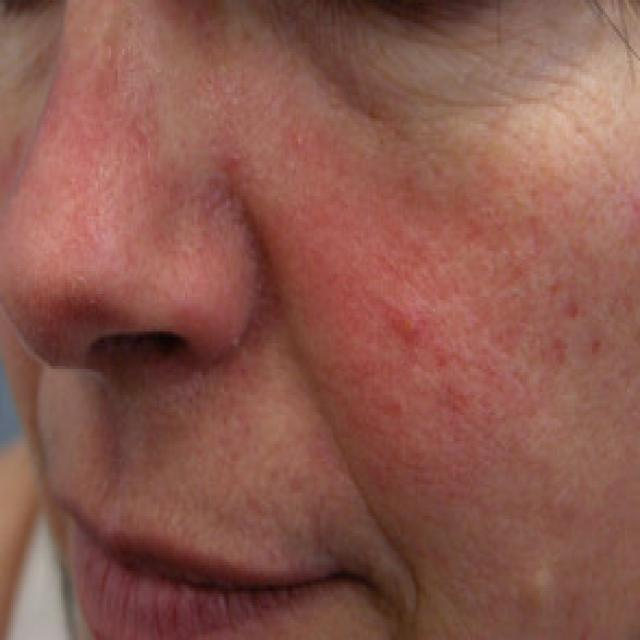Rosacea: (253, 107, 596, 571), (34, 39, 232, 338)
